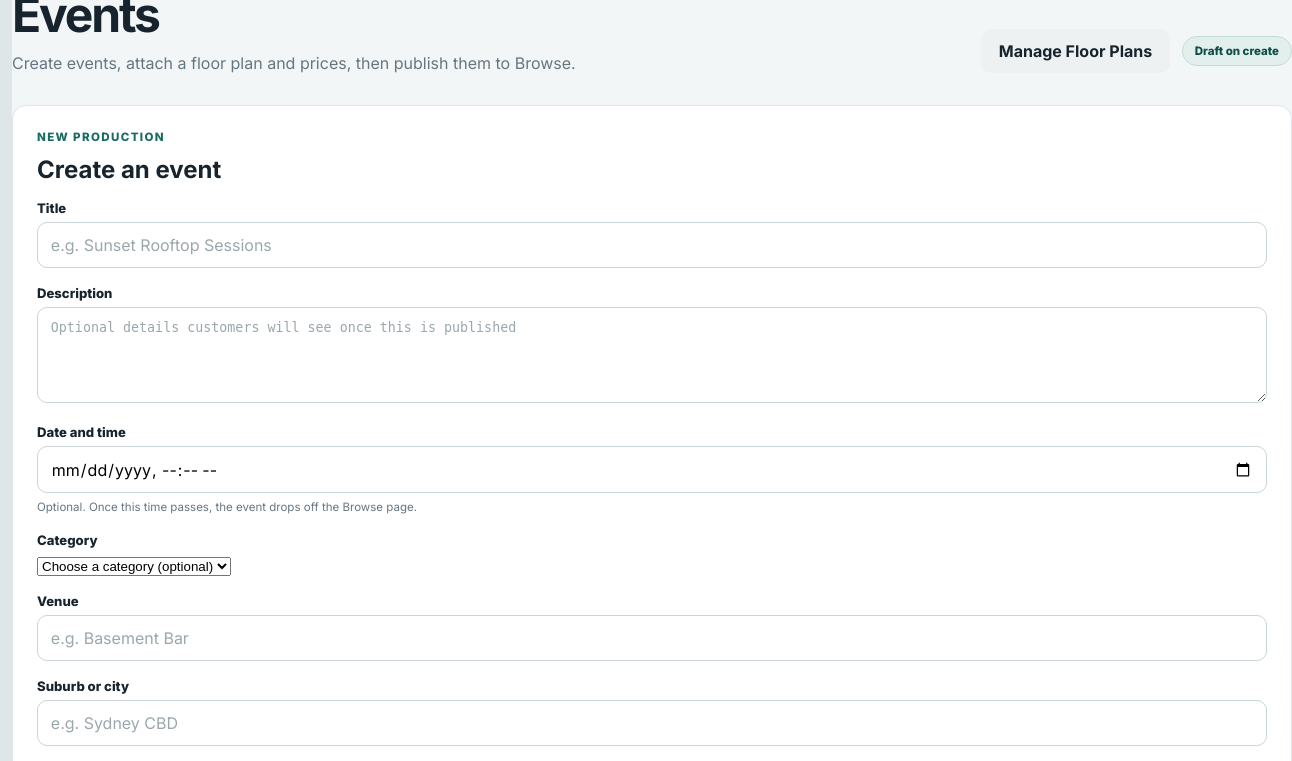
Scenario: EventsPage › as an organiser › shows the create-event form and submits a new event
The image size is (1292, 761).
Type "Circus" into the field labelled "Title".
click(652, 245); type("Circus")  # box [37,222,1267,268]
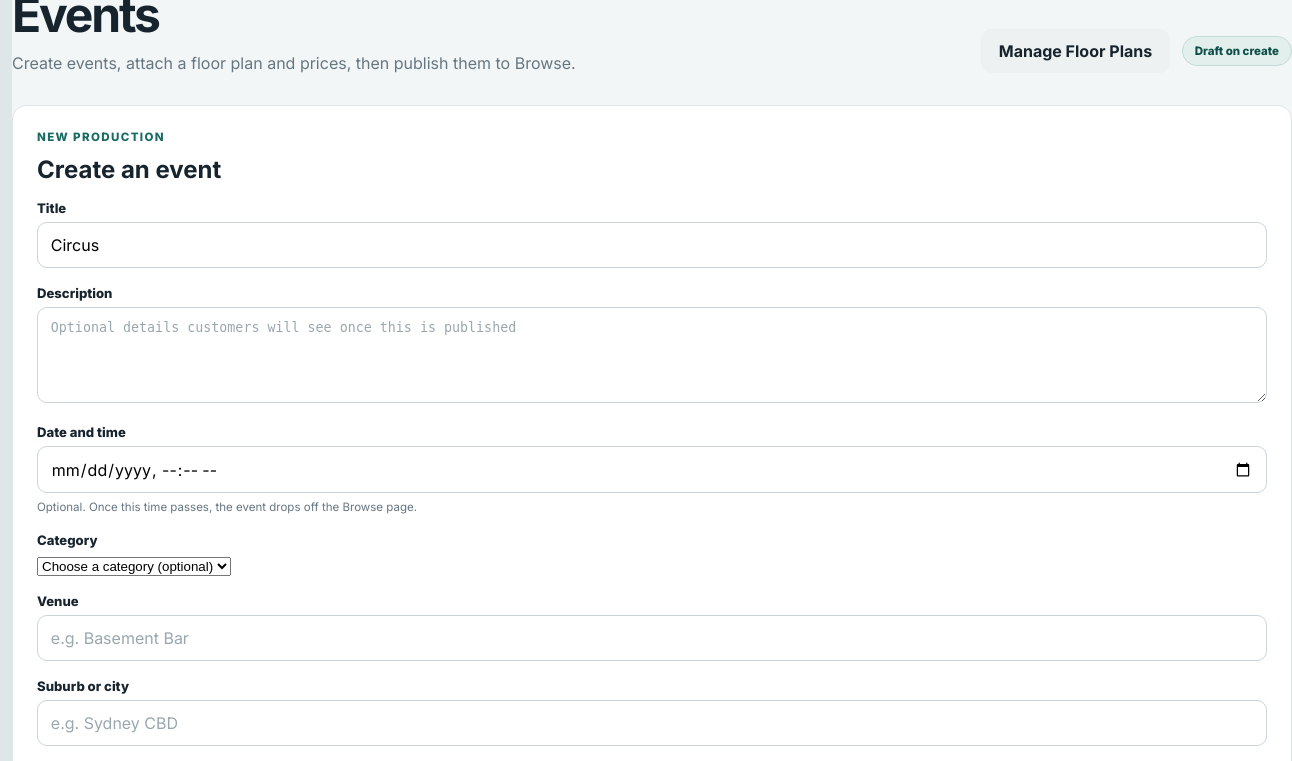
Type "Big top show" into the text box labelled "Description".
click(652, 355); type("Big top show")  # box [37,307,1267,403]
(page scrolled)
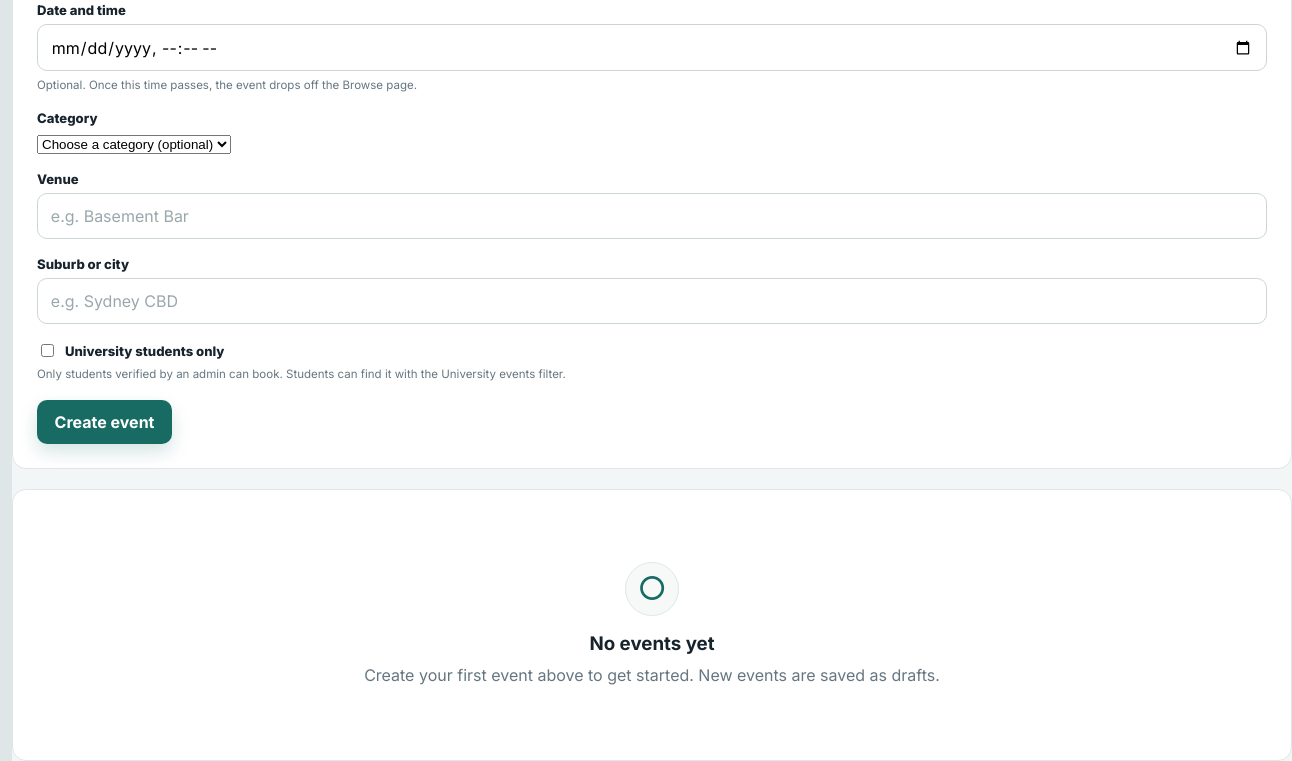
Click the button "Create event".
click(105, 422)  # box [37,400,172,444]
(page scrolled)
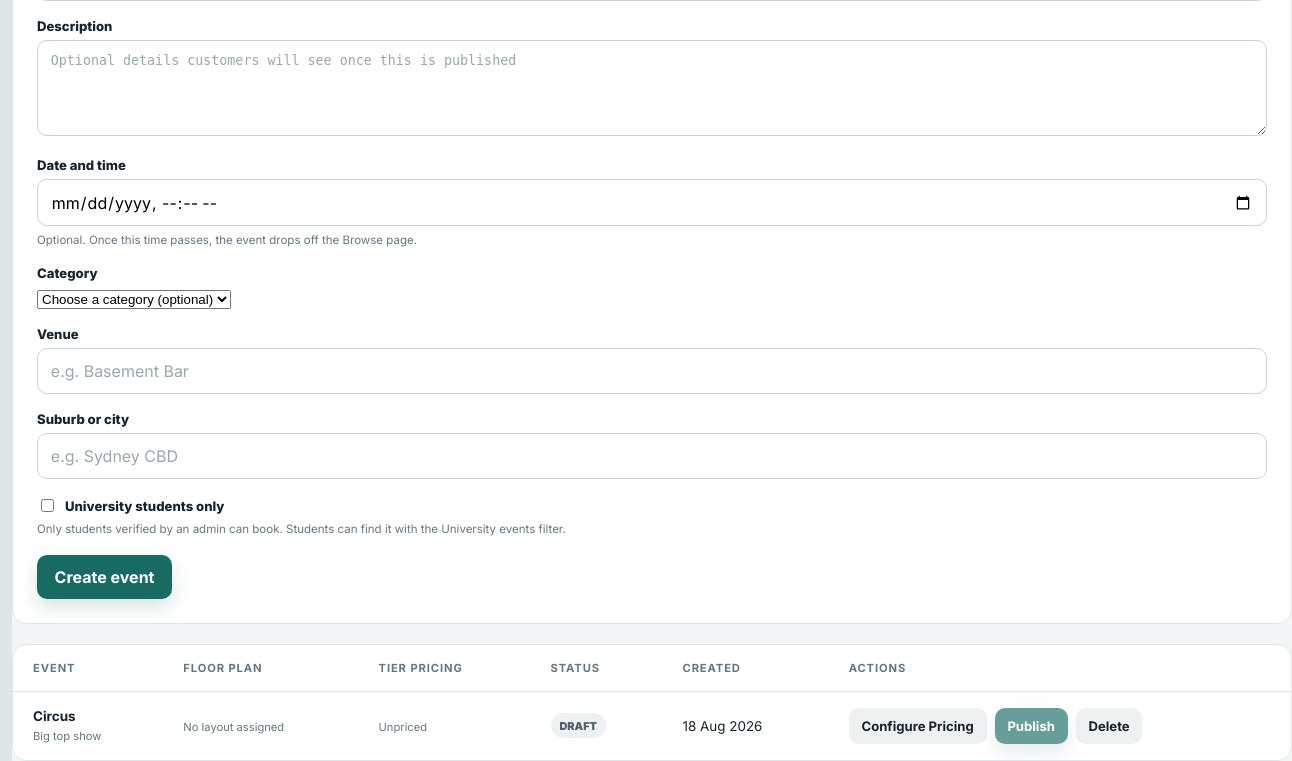
Result: the text "Circus" is shown at [33,708,76,724]
